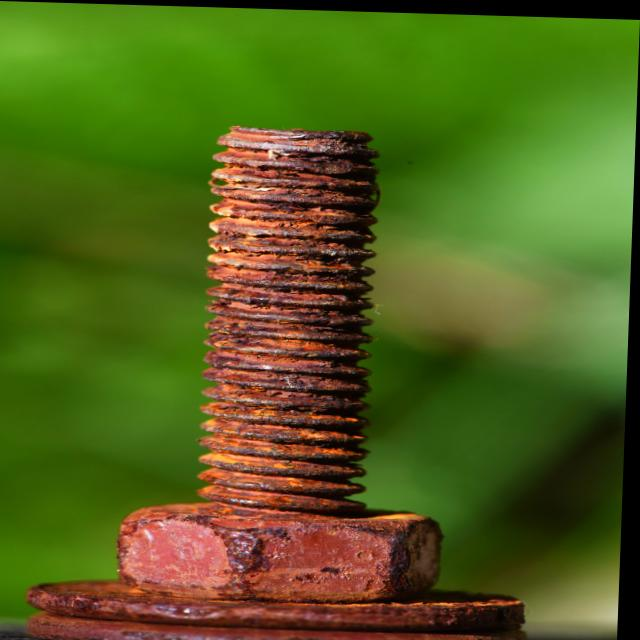Rusty bolt: (119, 475, 448, 603)
